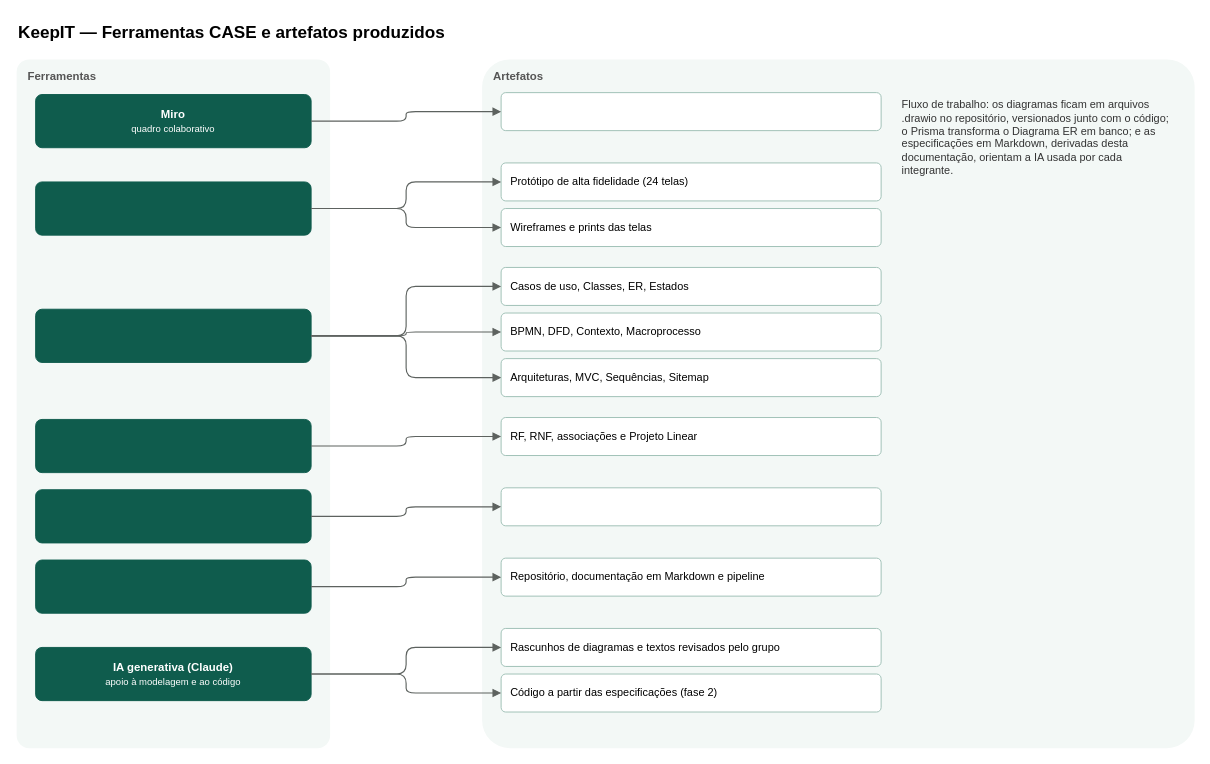
The diagram is 1210 pixels wide and 764 high, and some of its shapes have lost their labels. The centre of each missing label's shape, as x and y in pixels:
draw.io (diagrams.net) modelagem UML, BPMN, DFD: point 173,335
Figma design de interface: point 173,208
GitHub versionamento e CI/CD: point 173,586
Planilhas (Google Sheets / Excel) requisitos: point 173,445
Prisma modelagem e geração do banco: point 173,516
schema.prisma → tabelas do PostgreSQL: point 690,506
Sitemap inicial e brainstorming: point 690,111
